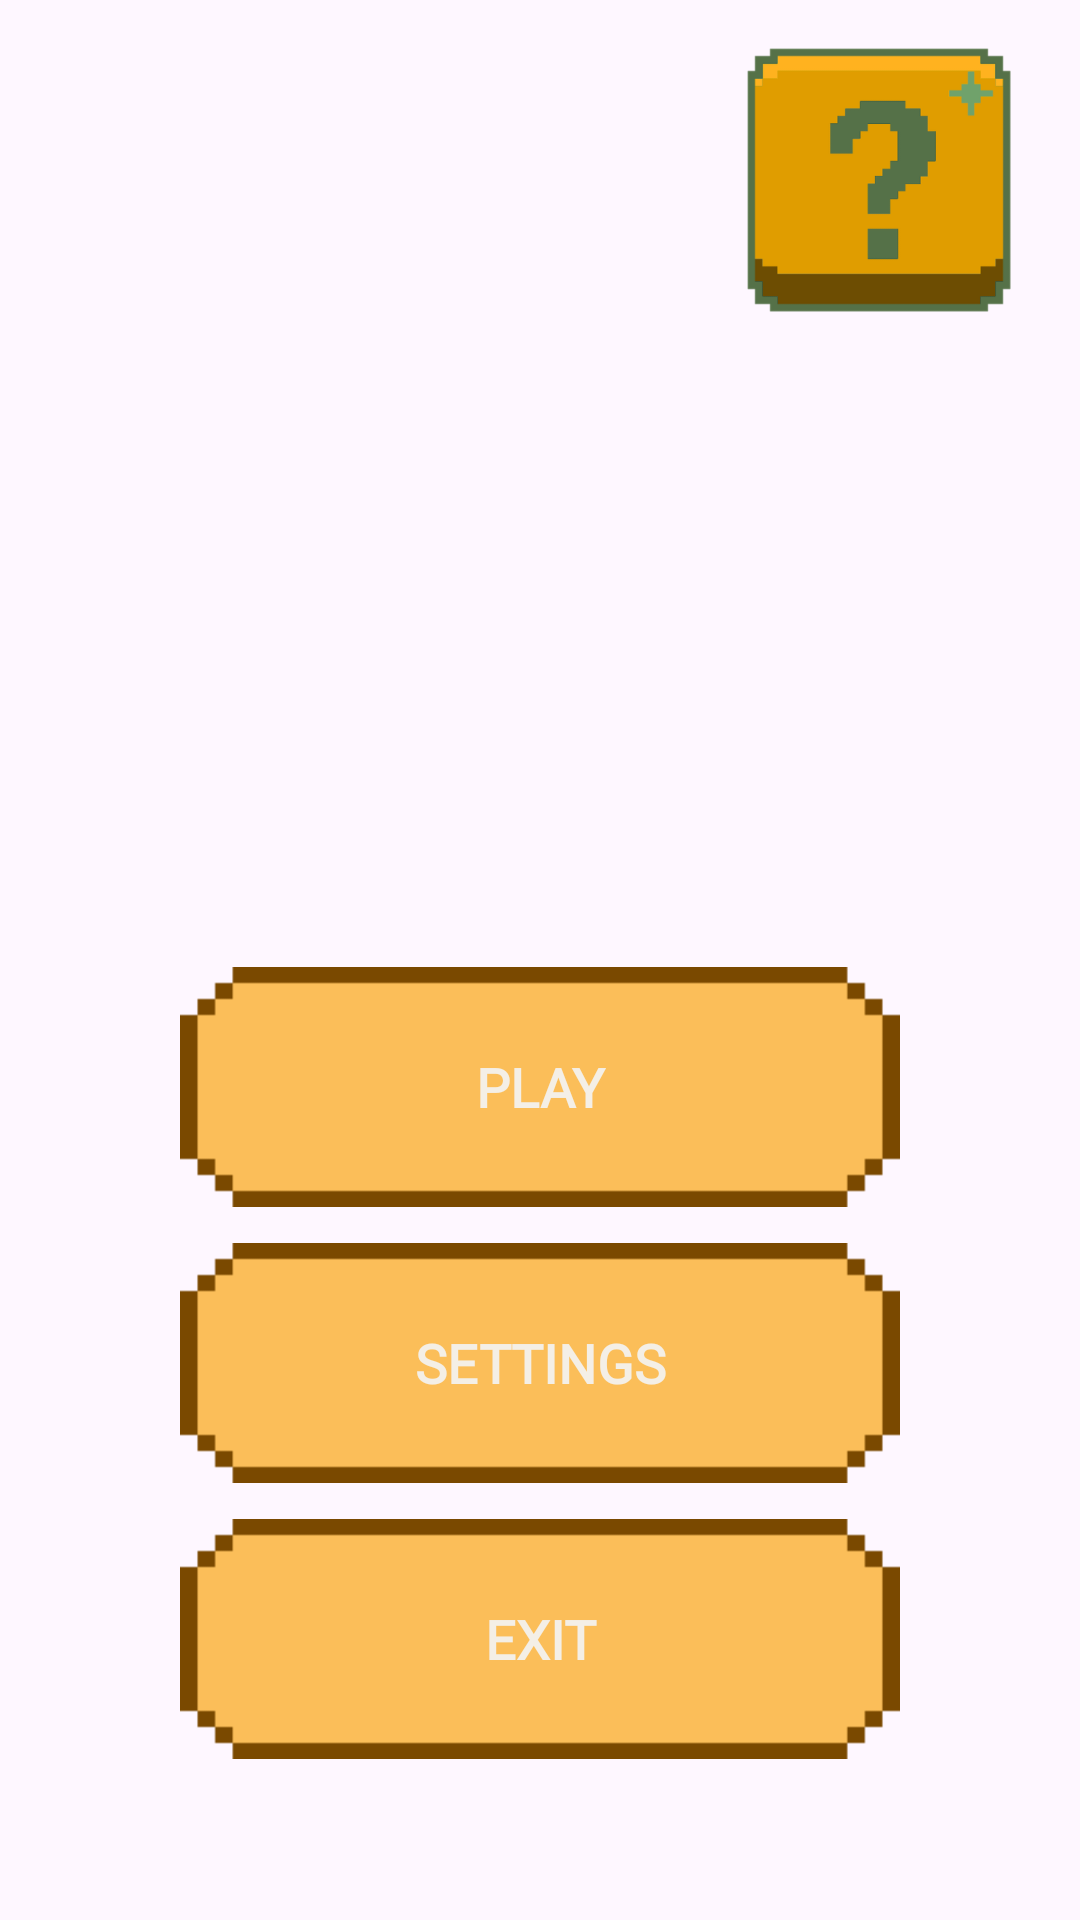

Named icons in this screenshot (1080px×1920px) and their centers, (x,y):
Help: (879,180)
